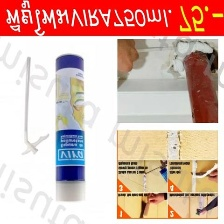aerosol_cans: (51, 52, 88, 204)
